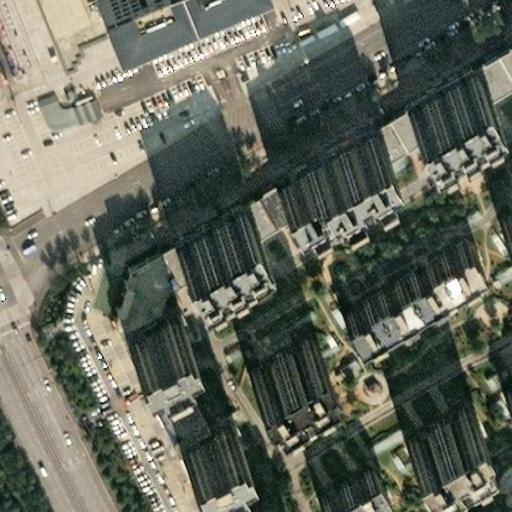building: (324, 223, 465, 322), (264, 117, 370, 192), (157, 200, 243, 271), (399, 59, 482, 124), (230, 318, 307, 383), (394, 395, 469, 459), (139, 356, 198, 427), (303, 451, 372, 506), (184, 467, 246, 512), (115, 302, 173, 347), (173, 404, 231, 448), (481, 188, 512, 232), (490, 365, 512, 404), (494, 25, 512, 66)
